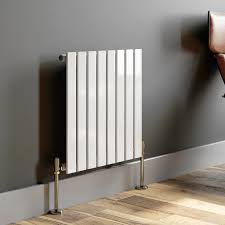Radiator: (52, 47, 147, 189)
